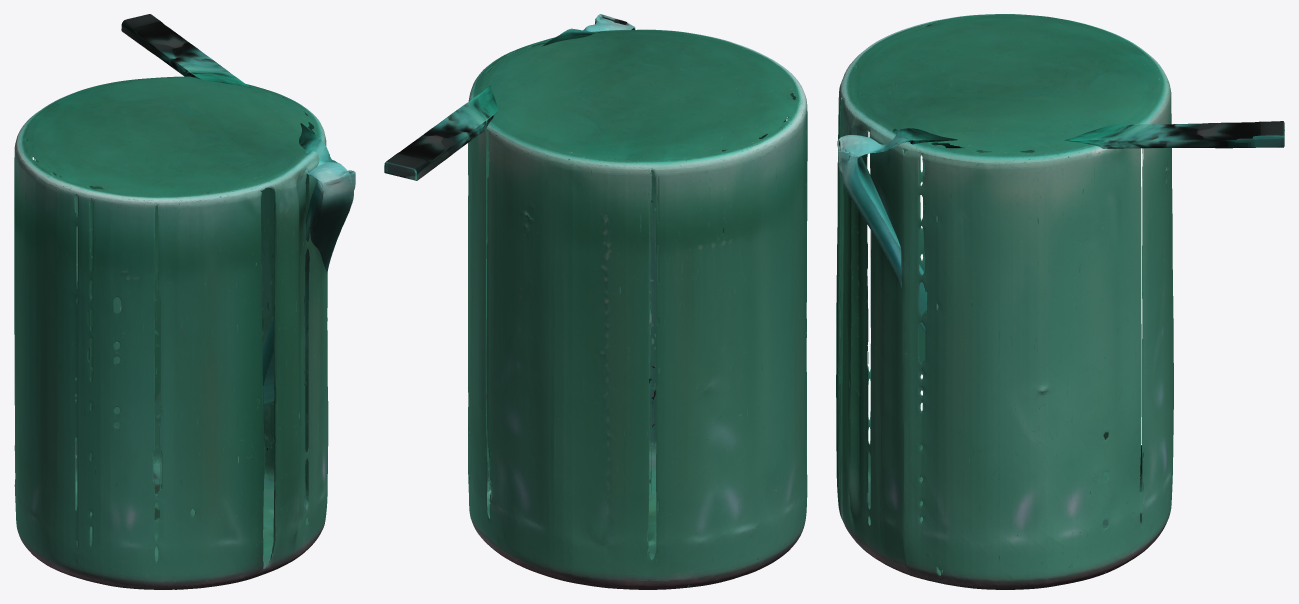
Rendered from prediction.glb.
The picture shows the model from 3 angles, left to right: view 1: azimuth 30°, elevation 25°; view 2: azimuth 150°, elevation 25°; view 3: azimuth 270°, elevation 25°; orthographic projection. The views are drawn at different scales.
Parts seen in each view (by area): view 1: 0_geometry_0, 1_geometry_0; view 2: 0_geometry_0, 1_geometry_0; view 3: 0_geometry_0, 1_geometry_0.
Boxes of the visible parts, x1,y1,x2,y2 form: 0_geometry_0: [14, 76, 328, 589]; 1_geometry_0: [121, 14, 355, 403]; 0_geometry_0: [468, 29, 807, 589]; 1_geometry_0: [384, 14, 635, 180]; 0_geometry_0: [836, 14, 1173, 589]; 1_geometry_0: [837, 121, 1284, 333].
Size of the model in its own units: 0.6195 by 0.8706 by 0.7922.
Materials: 2 (2 with a texture image).
